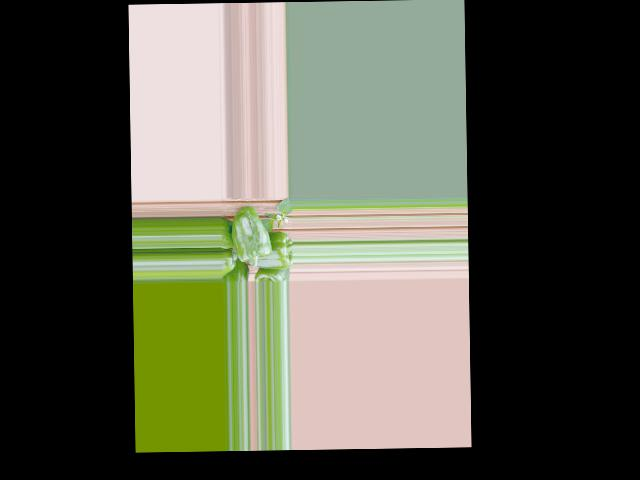bell_pepper: (220, 253, 239, 279)
